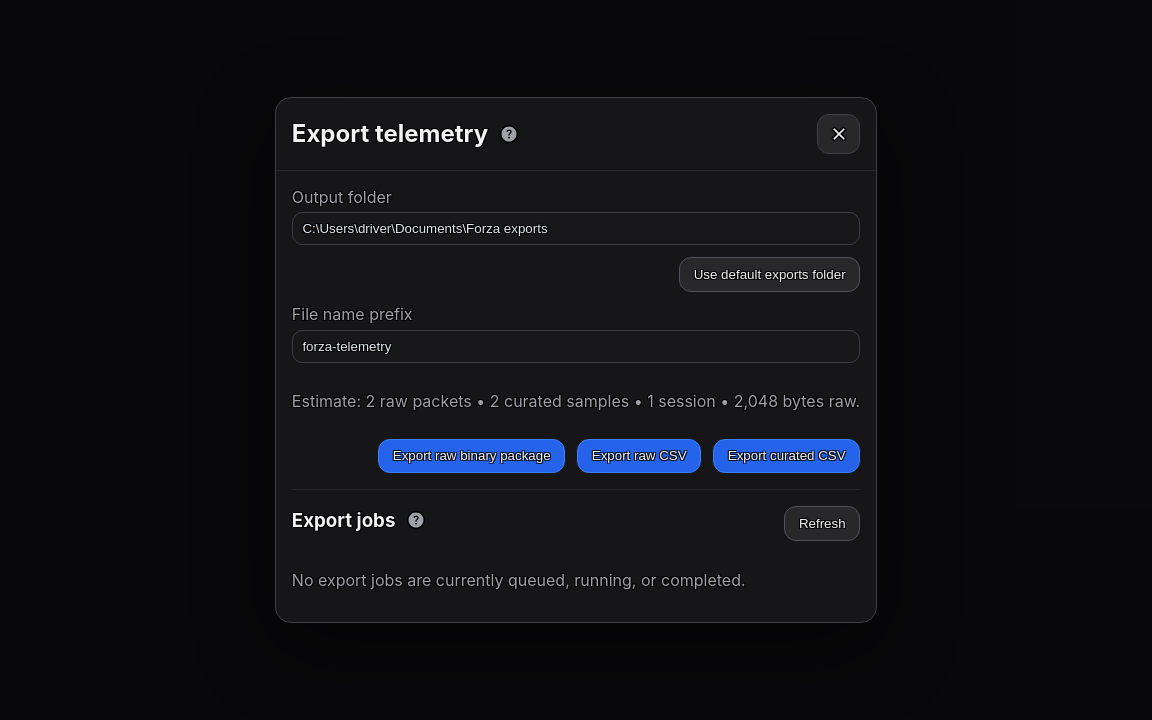
ExportTelemetryModal › restores the default exports folder after a manual edit
The width and height of the screenshot is (1152, 720).
Replace the text in the field labelled "Output folder" with "D:\\temporary\\exports" at (576, 229), box [292, 212, 860, 245]
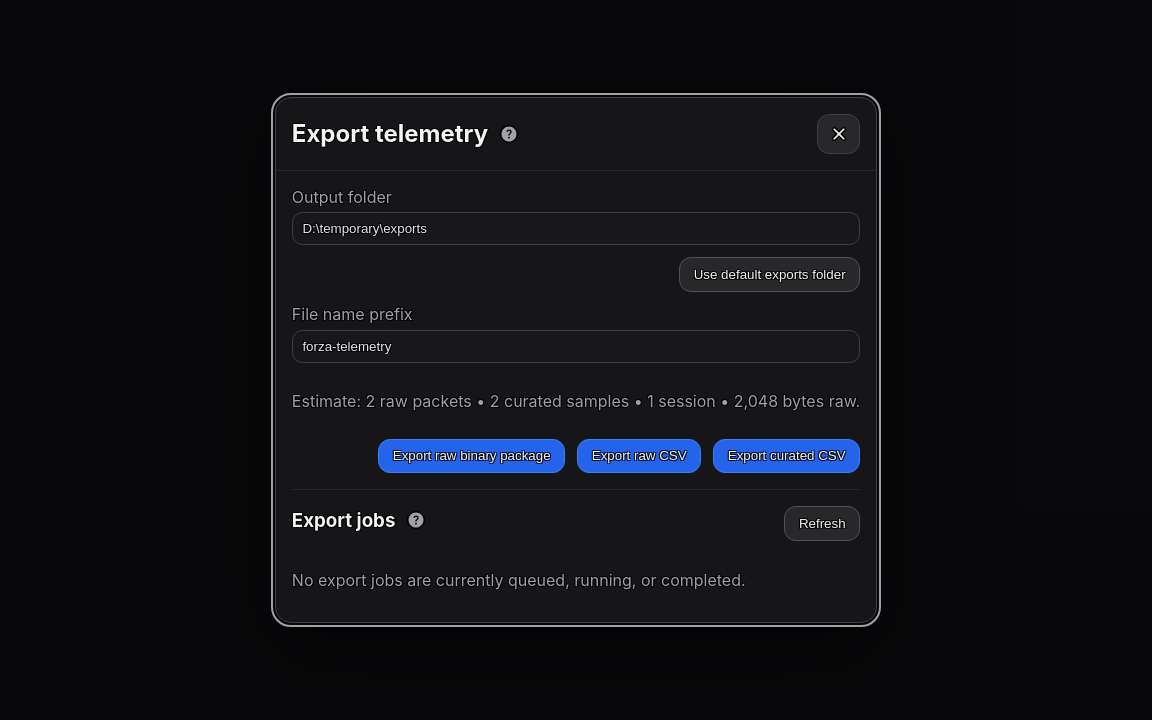
Click the button "Use default exports folder".
click(770, 275)  # box [679, 257, 860, 292]
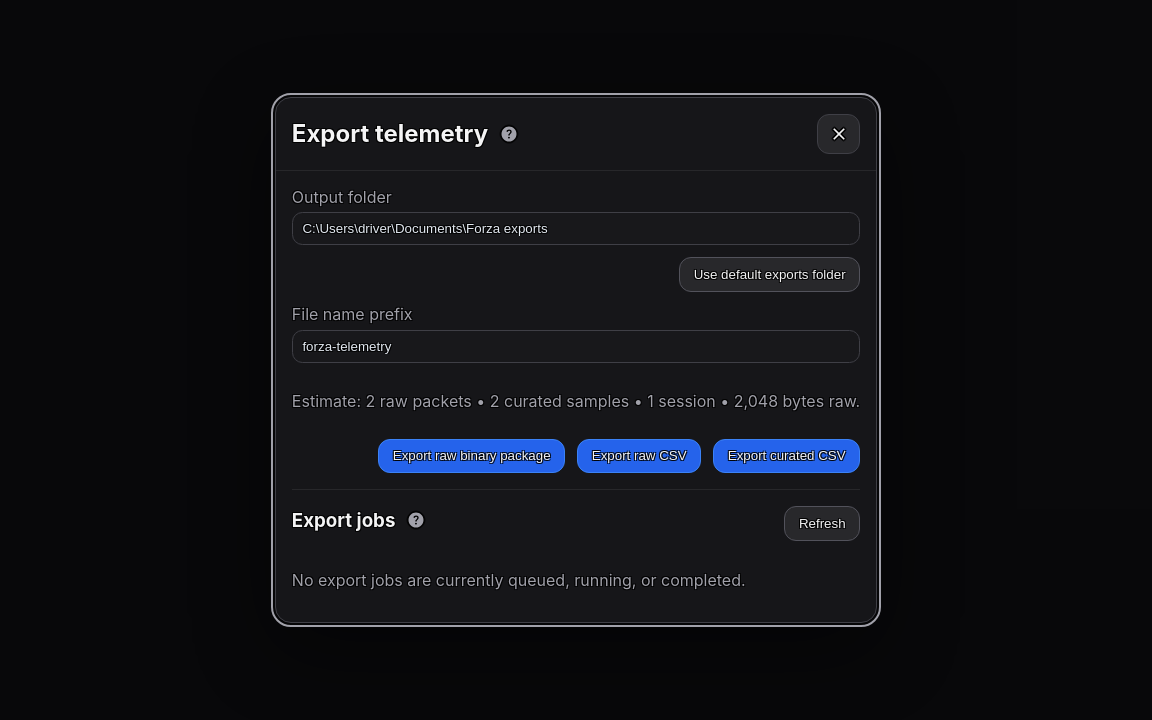
Expected: the field labelled "Output folder" holds "C:\\Users\\driver\\Documents\\Forza exports", [292, 212, 860, 245]
